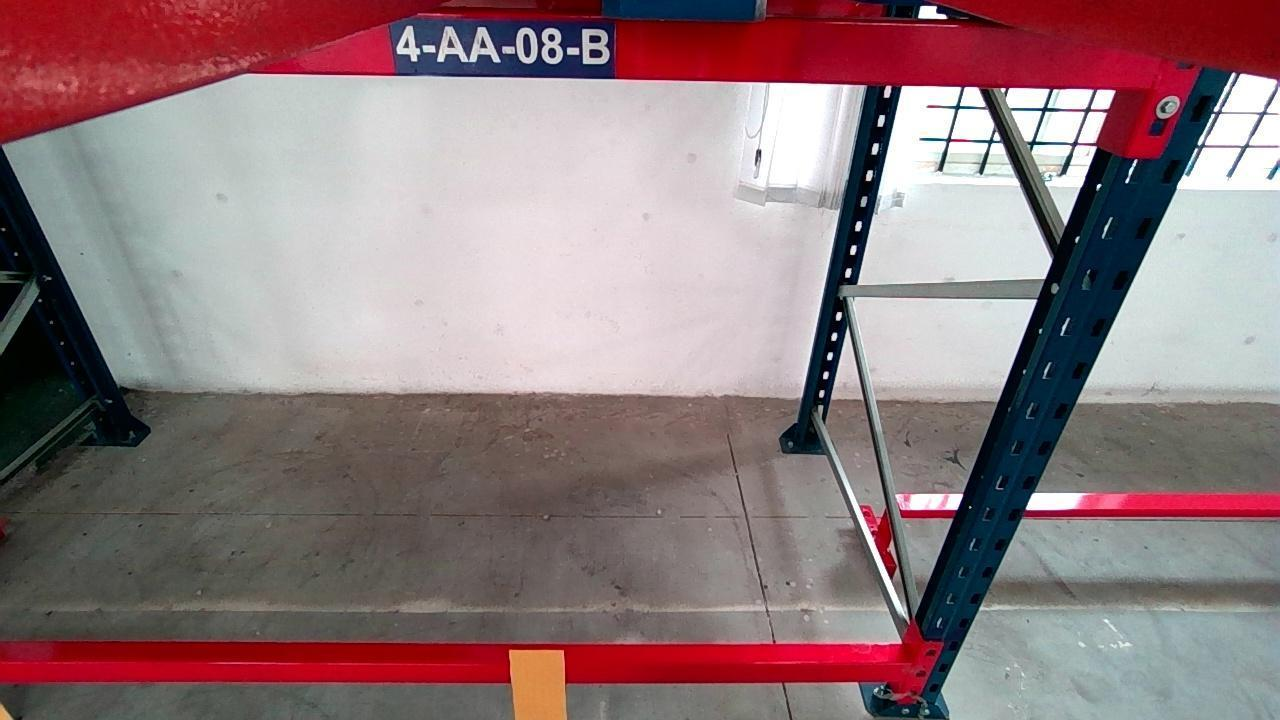h_rack: (249, 14, 1195, 86), (0, 658, 921, 683)
orange_strip: (509, 650, 566, 720)
